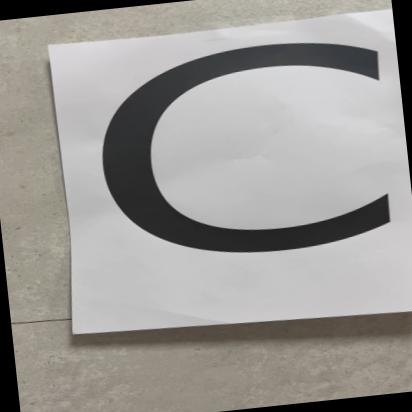seat: (55, 9, 412, 346)
